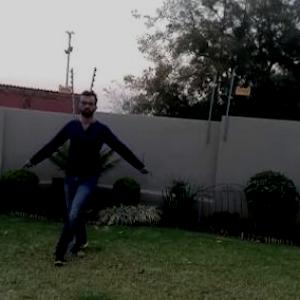land: (23, 93, 142, 256)
